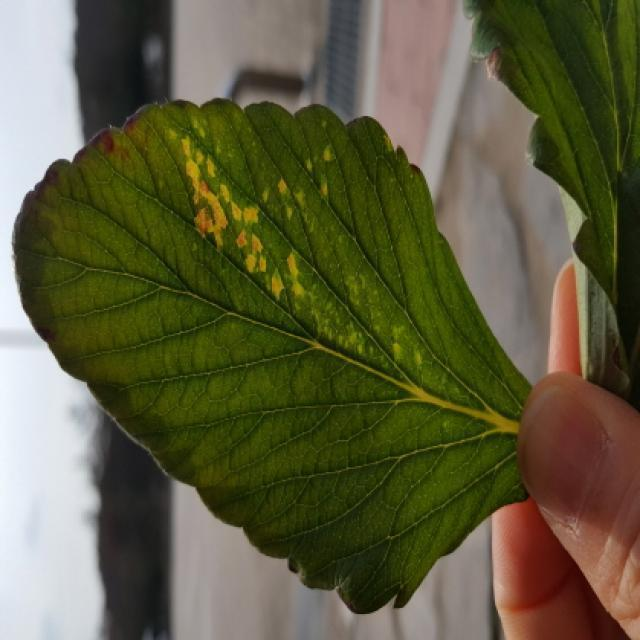Angular Leafspot: (12, 99, 532, 618)
